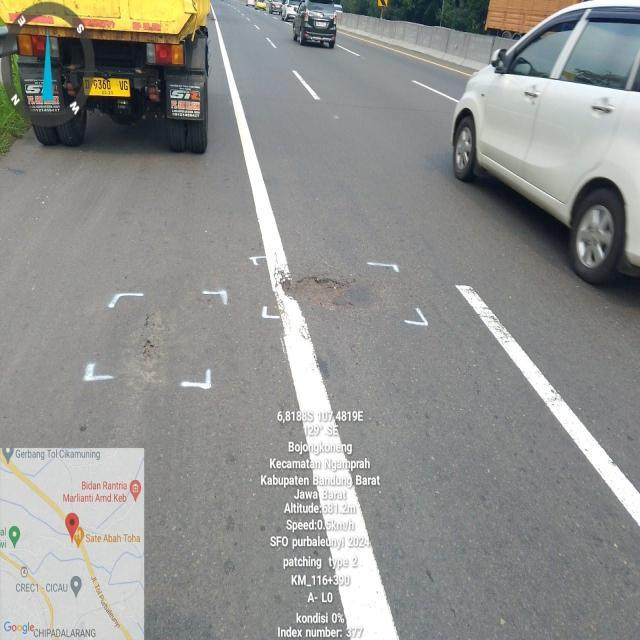Buraco: (277, 274, 357, 314)
